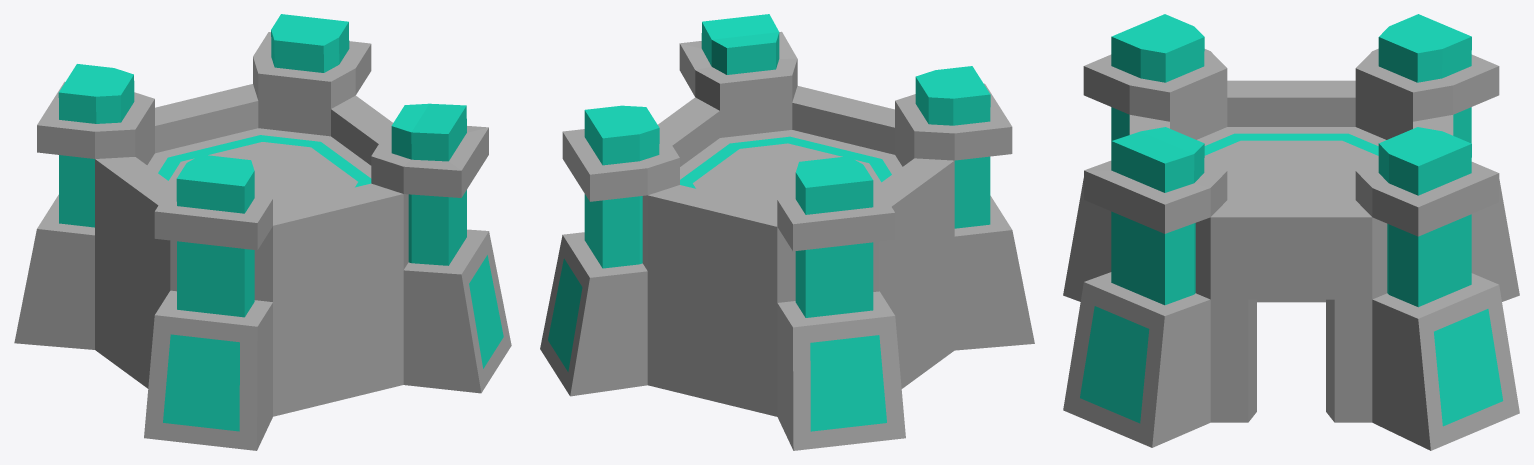
Rendered from Warrior Tower lev 4.1.fbx.
3 renders of one model, left to right at view 1: azimuth 30°, elevation 25°; view 2: azimuth 150°, elevation 25°; view 3: azimuth 270°, elevation 25°, orthographic. The views are drawn at different scales.
Parts seen in each view (by area): view 1: Torre Wizzard.032; view 2: Torre Wizzard.032; view 3: Torre Wizzard.032.
Part boxes in pixels (<box>): Torre Wizzard.032: <box>14,14,511,450</box>; Torre Wizzard.032: <box>540,14,1034,450</box>; Torre Wizzard.032: <box>1063,14,1519,450</box>.
Bounding box in the file's own units: 14.11 × 9.09 × 14.11.
